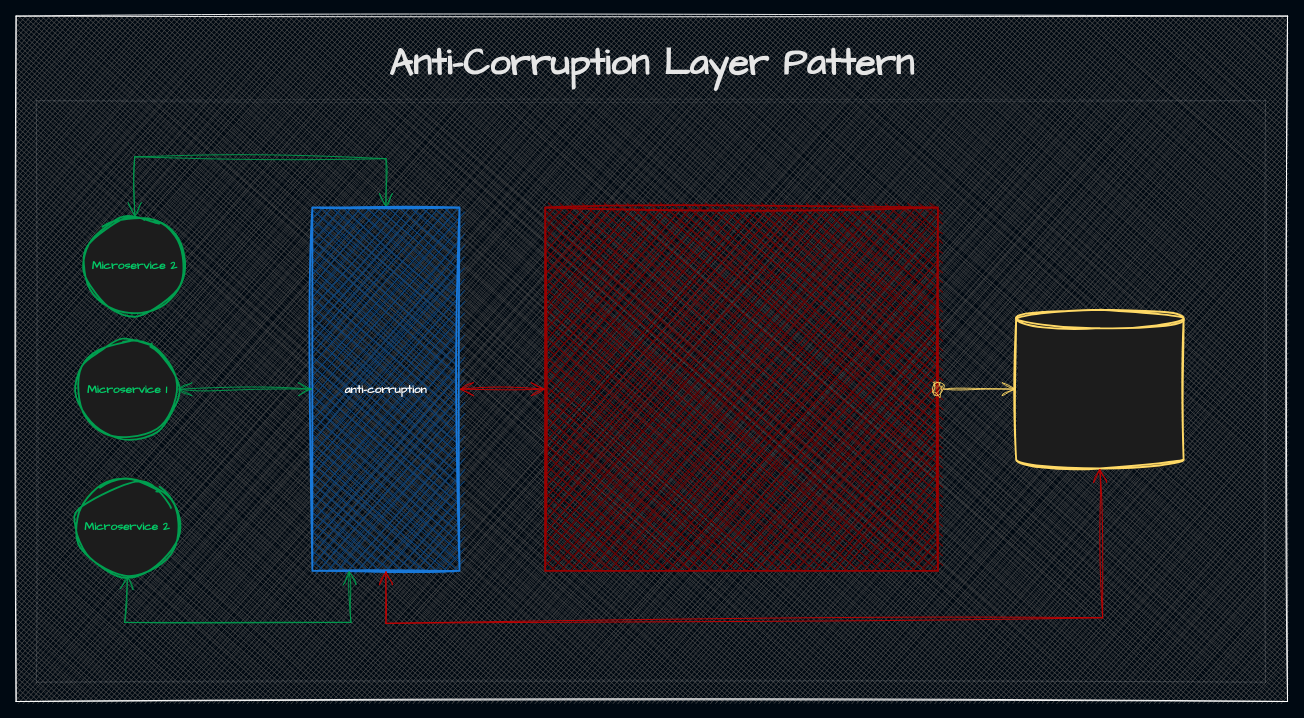
This 1304x718 diagram has some shape labels left out. Each missing label, with the centre of its shape:
"legacy-database" goes at pixel 1099 388.
"legacy-system" goes at pixel 741 388.
